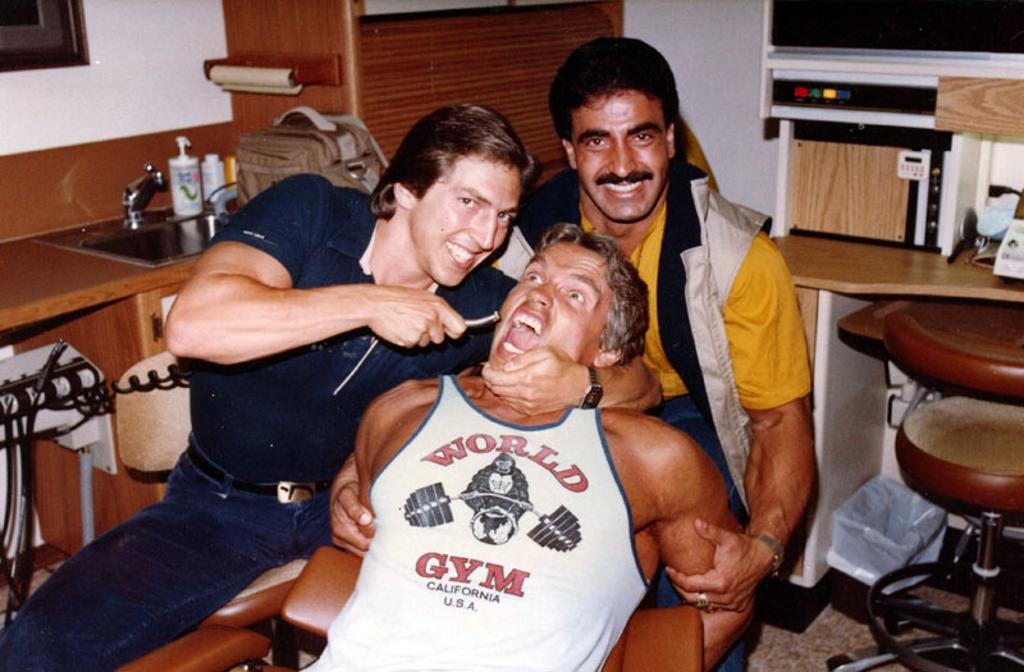face: (488, 246, 596, 388), (416, 158, 522, 284), (572, 90, 664, 220)
